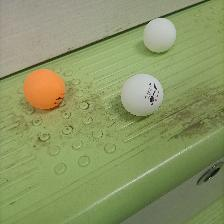WhiteBall: (120, 73, 163, 116), (141, 17, 176, 52)
YellowBall: (22, 69, 64, 109)
